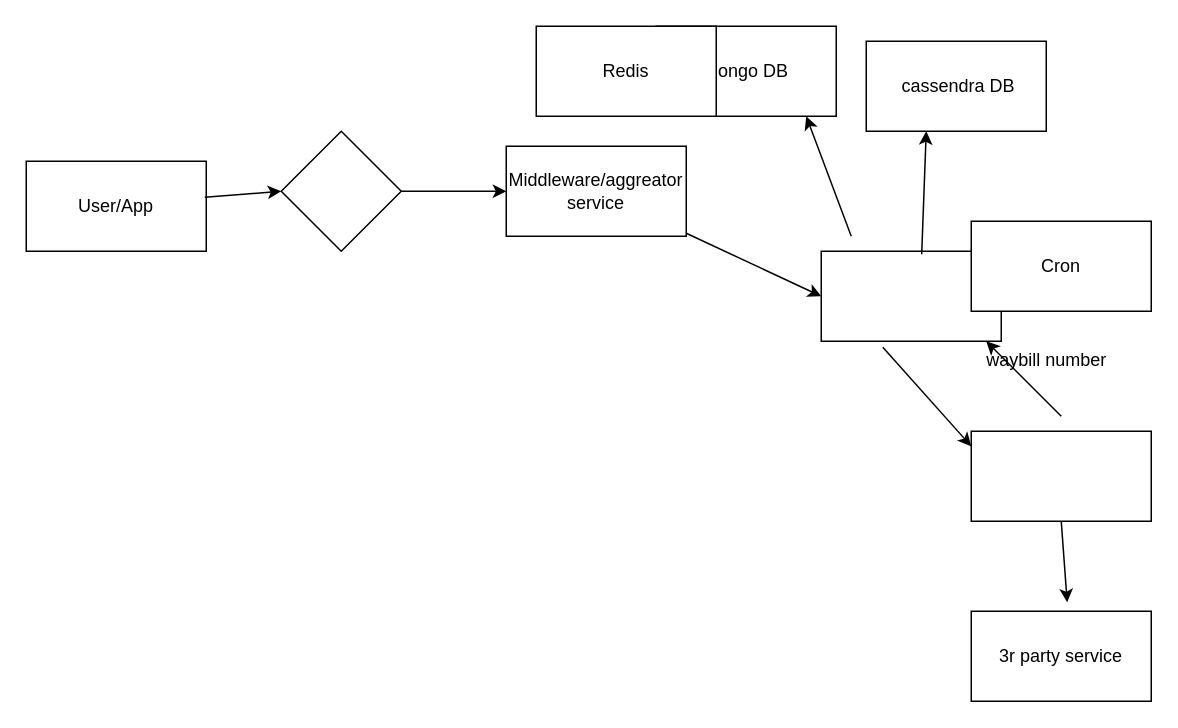
This 1178x728 diagram has some shape labels left out. The shapes that lost their labels are listed below. From the top down, each one's centre as x and y in pixels, then its label:
At (x=340, y=190): "LB".
At (x=910, y=295): "ShipMent Service".
At (x=1060, y=475): "Logistic Service".
